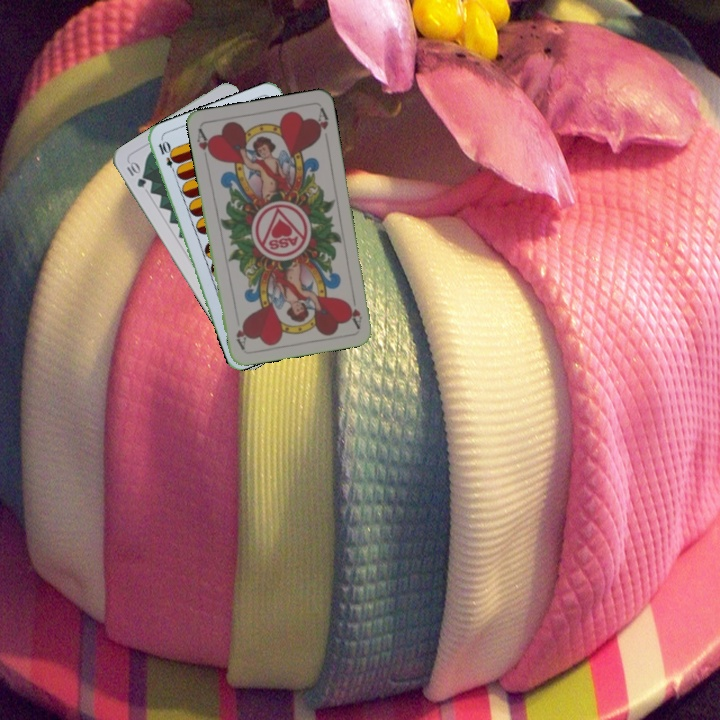E10: (154, 137, 179, 177)
G10: (122, 158, 149, 190)
HA: (193, 125, 216, 162), (343, 290, 364, 330)
